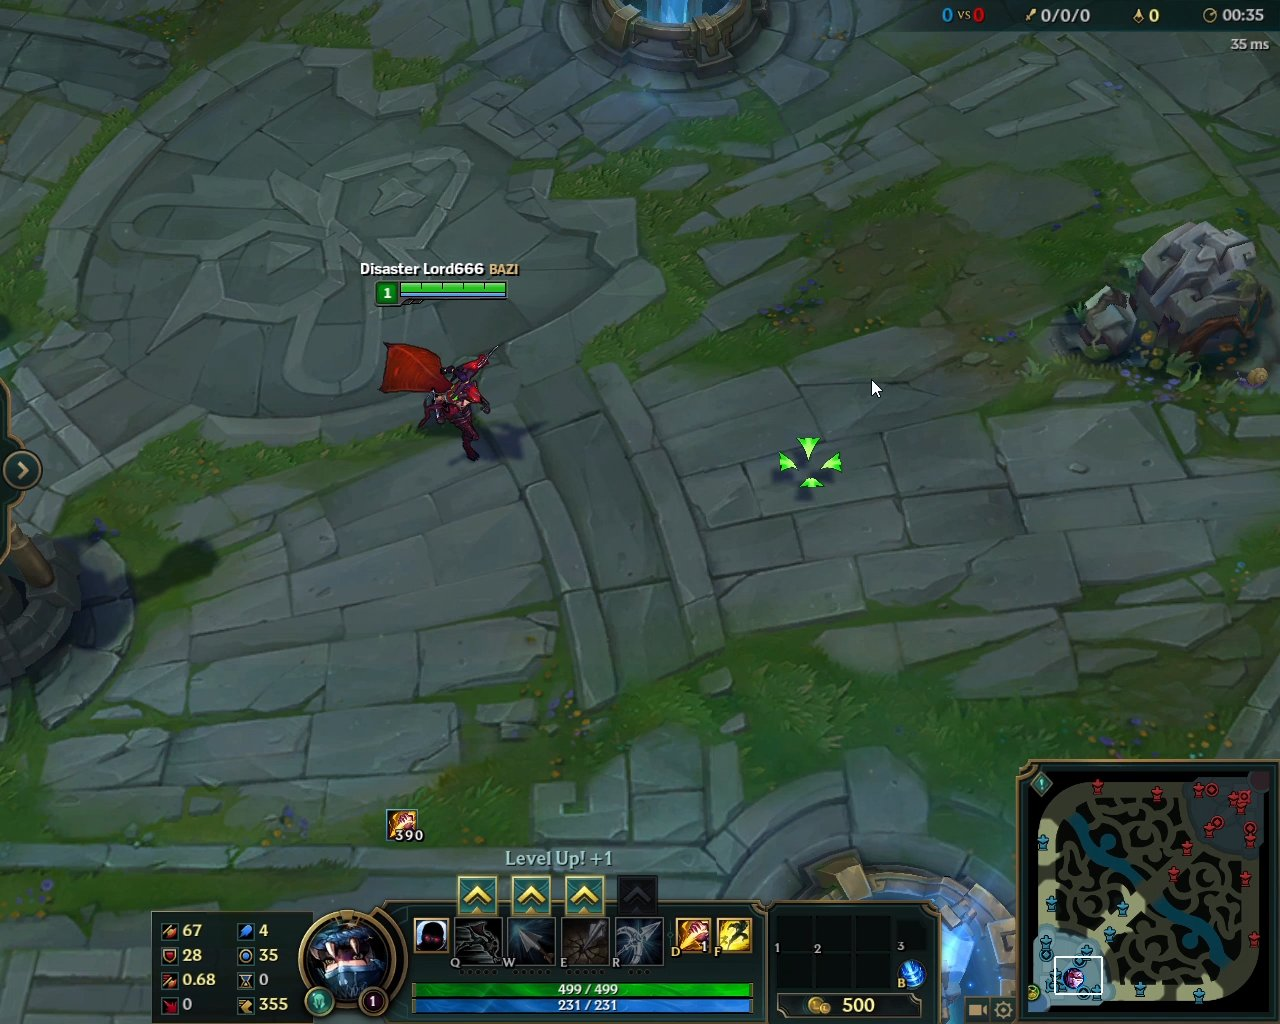Vayne: (371, 336, 512, 463)
